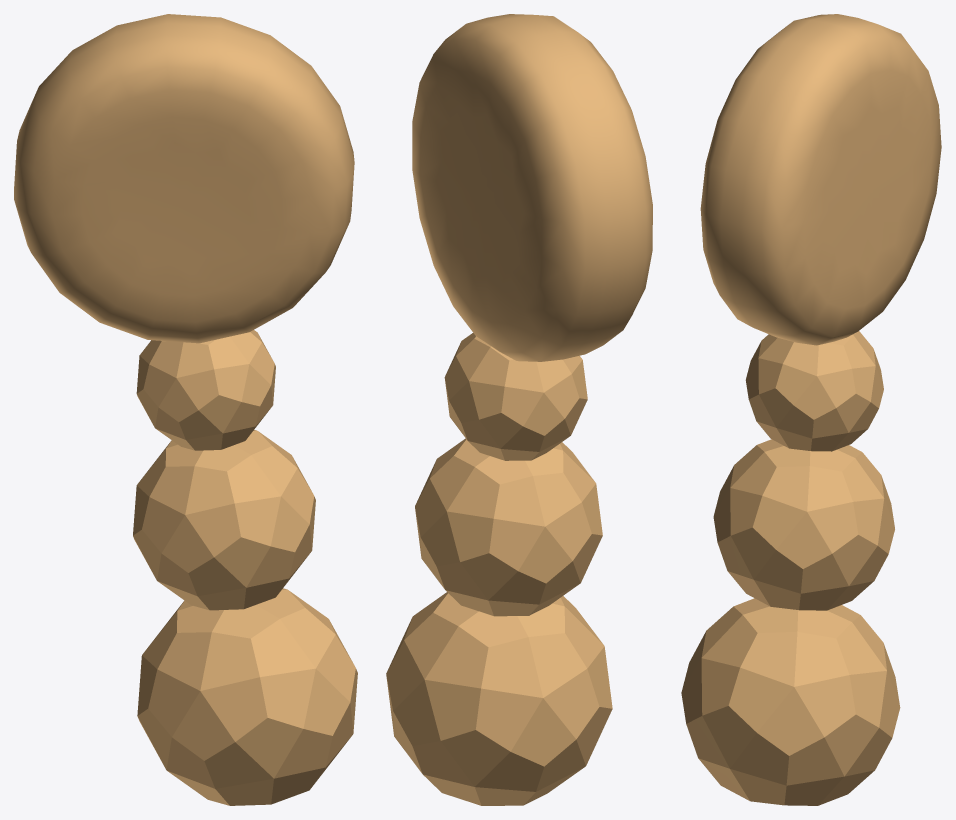
File: earings12.glb
3 views of the same model, side by side, from view 1: azimuth 30°, elevation 25°; view 2: azimuth 150°, elevation 25°; view 3: azimuth 270°, elevation 25° (orthographic). The views are drawn at different scales.
Parts seen in each view (by area): view 1: earrings.012; view 2: earrings.012; view 3: earrings.012.
Part boxes in pixels (<box>): earrings.012: <box>14,14,357,805</box>; earrings.012: <box>386,14,652,805</box>; earrings.012: <box>681,14,941,805</box>.
Bounding box in the file's own units: 0.1127 × 0.2919 × 0.0922.
Materials: 1 (1 with a texture image).
